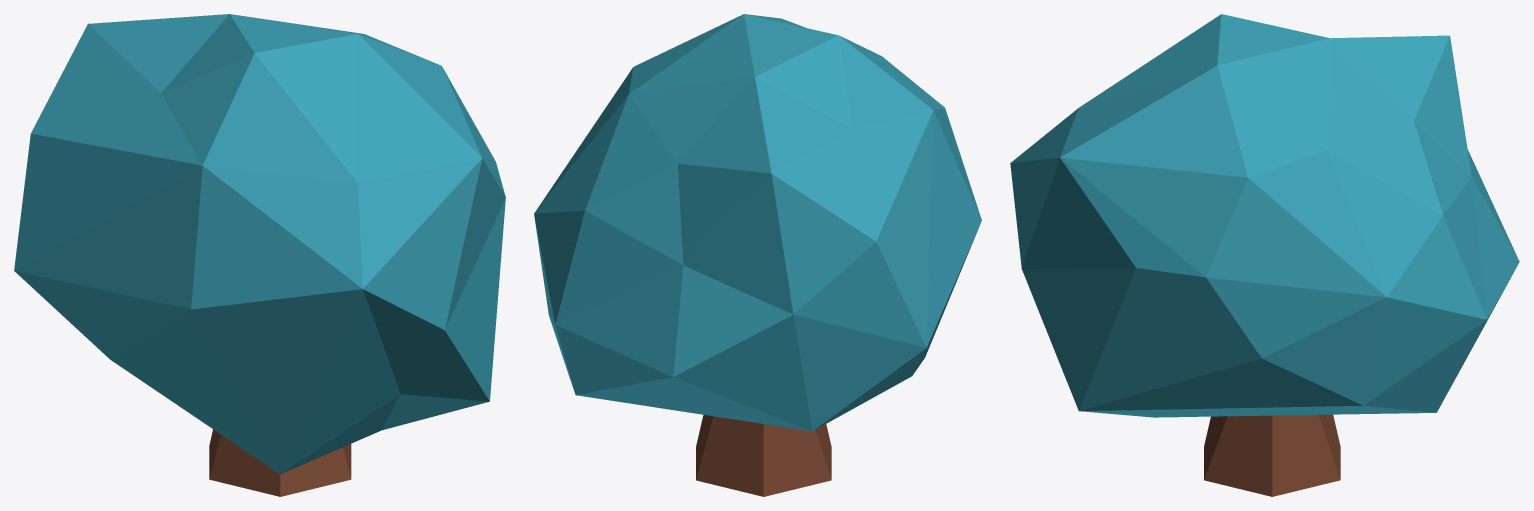
The model's file is Bush_1_summer_blue_vc.fbx.
The picture shows the model from 3 angles, left to right: view 1: azimuth 30°, elevation 25°; view 2: azimuth 150°, elevation 25°; view 3: azimuth 270°, elevation 25°; orthographic projection. The views are drawn at different scales.
Visible parts, largest first — view 1: Bush_1_summer_blue_vc; view 2: Bush_1_summer_blue_vc; view 3: Bush_1_summer_blue_vc.
Boxes of the visible parts, bbox=[...] form: Bush_1_summer_blue_vc: bbox=[14, 14, 505, 496]; Bush_1_summer_blue_vc: bbox=[534, 14, 981, 496]; Bush_1_summer_blue_vc: bbox=[1010, 14, 1519, 496].
Bounding box in the file's own units: 40.88 × 42.19 × 45.82.
